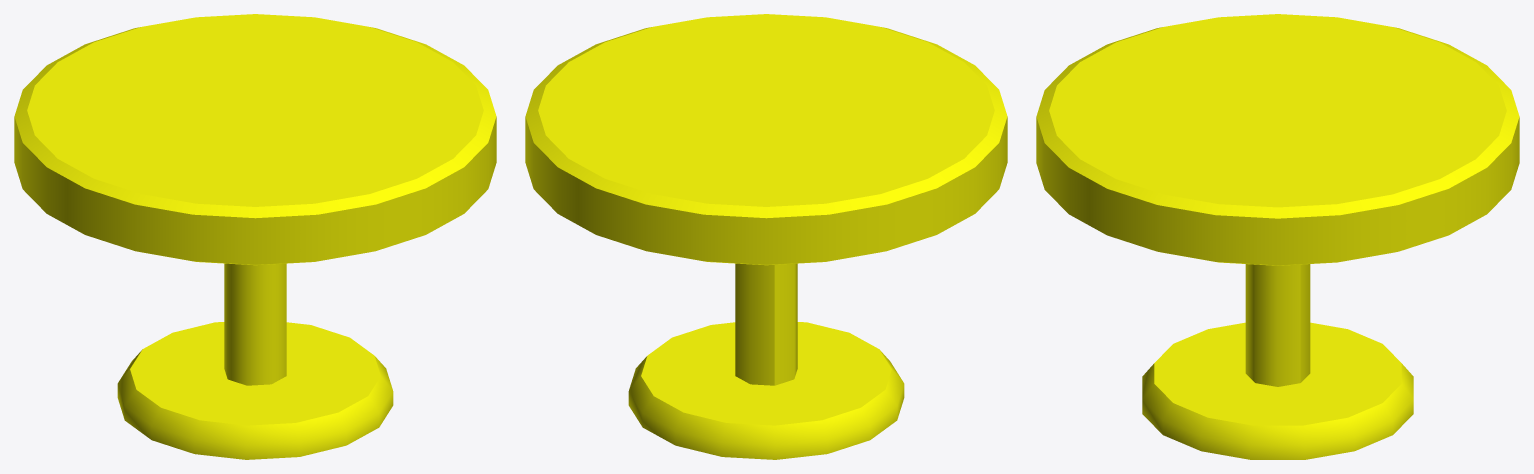
File: table_round_A_small.gltf
3 views of the same model, side by side, from view 1: azimuth 30°, elevation 25°; view 2: azimuth 150°, elevation 25°; view 3: azimuth 270°, elevation 25° (orthographic).
Parts seen in each view (by area): view 1: table_round_A_small; view 2: table_round_A_small; view 3: table_round_A_small.
Boxes of the visible parts, bbox=[...] form: table_round_A_small: bbox=[14, 14, 496, 459]; table_round_A_small: bbox=[525, 14, 1007, 459]; table_round_A_small: bbox=[1036, 14, 1519, 459].
Size of the model in its own units: 1.5 by 1 by 1.5.
1 material, 1 textured.
